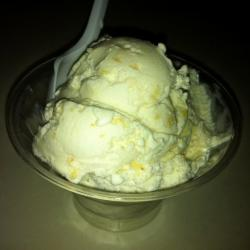icecream: (56, 48, 170, 190)
